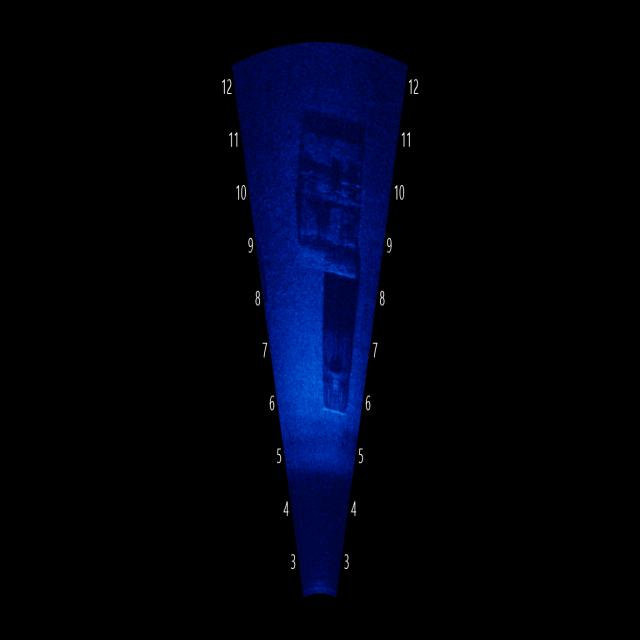square: (285, 111, 370, 276), (316, 290, 363, 426)
